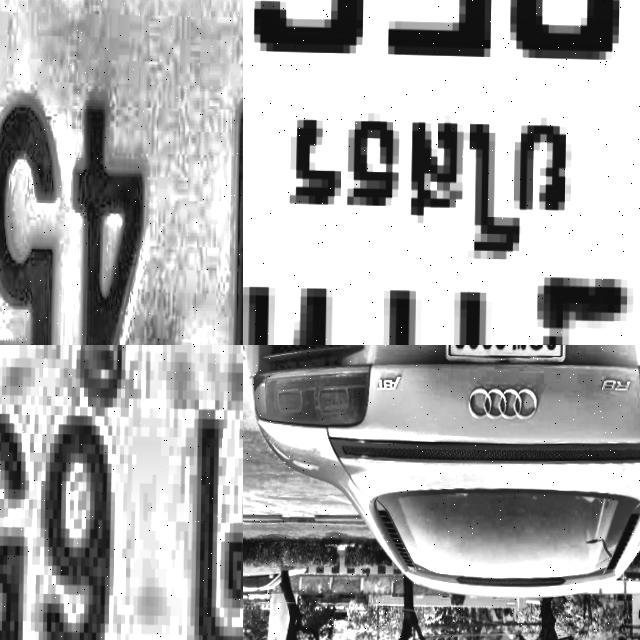license-plate: (243, 0, 640, 345), (0, 0, 243, 345), (0, 345, 243, 640), (440, 345, 567, 367)
